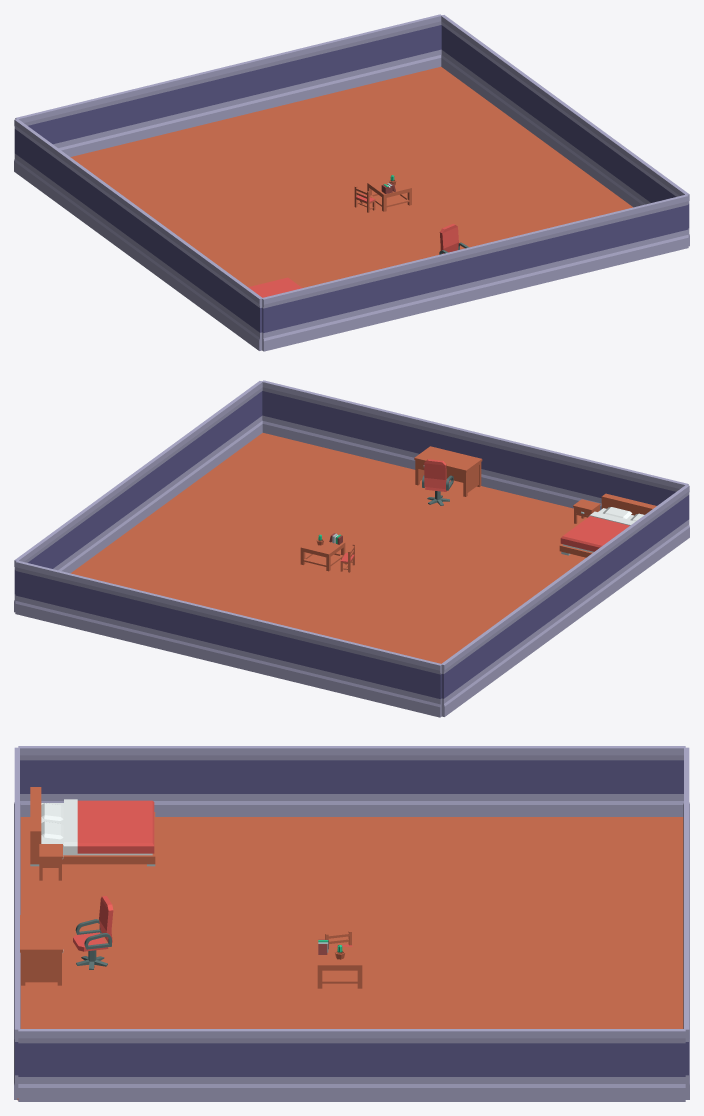
File: Level1.fbx
3 renders of one model, top to bottom at view 1: azimuth 30°, elevation 25°; view 2: azimuth 150°, elevation 25°; view 3: azimuth 270°, elevation 25°, orthographic. The views are drawn at different scales.
Visible parts, largest first — view 1: wall (×4), porch_floorCenter, tableCoffeeSquare, bedDouble, chairDesk; view 2: wall (×4), porch_floorCenter, bedDouble, desk, chairDesk, tableCoffeeSquare; view 3: porch_floorCenter, wall (×4), bedDouble, desk, chairDesk, tableCoffeeSquare, cabinetBedDrawerTable.
Boxes of the visible parts, x1,y1,x2,y2 form: wall (×4): [14, 14, 689, 351]; porch_floorCenter: [70, 67, 632, 287]; tableCoffeeSquare: [367, 176, 411, 211]; bedDouble: [248, 277, 302, 297]; chairDesk: [439, 224, 469, 254]; wall (×4): [14, 380, 689, 717]; porch_floorCenter: [71, 433, 587, 663]; bedDouble: [559, 493, 656, 557]; desk: [414, 446, 482, 496]; chairDesk: [422, 459, 453, 505]; tableCoffeeSquare: [300, 535, 345, 571]; porch_floorCenter: [17, 817, 683, 1100]; wall (×4): [14, 746, 689, 1101]; bedDouble: [30, 787, 155, 866]; desk: [20, 915, 63, 985]; chairDesk: [73, 896, 113, 969]; tableCoffeeSquare: [317, 946, 362, 988]; cabinetBedDrawerTable: [39, 844, 63, 880].
Size of the model in its own units: 912 by 105 by 912.
